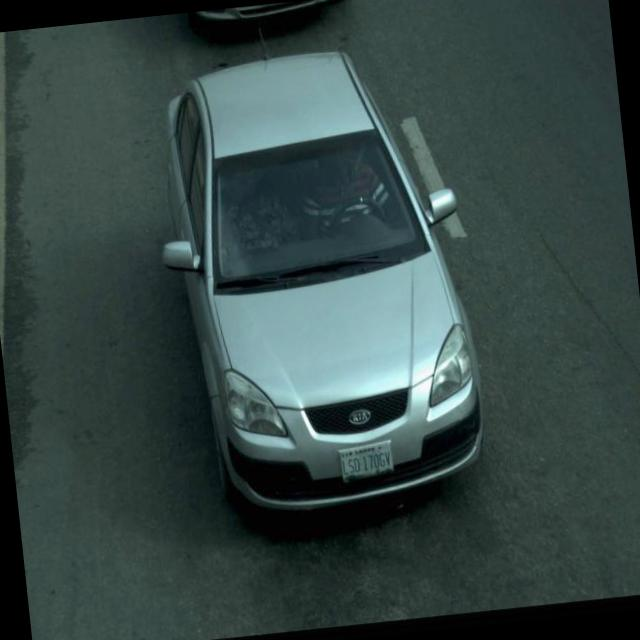person_with_seatbelt: (281, 128, 402, 254)
